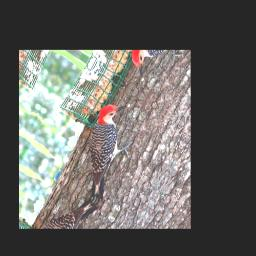Woodpecker: (64, 91, 152, 207)
